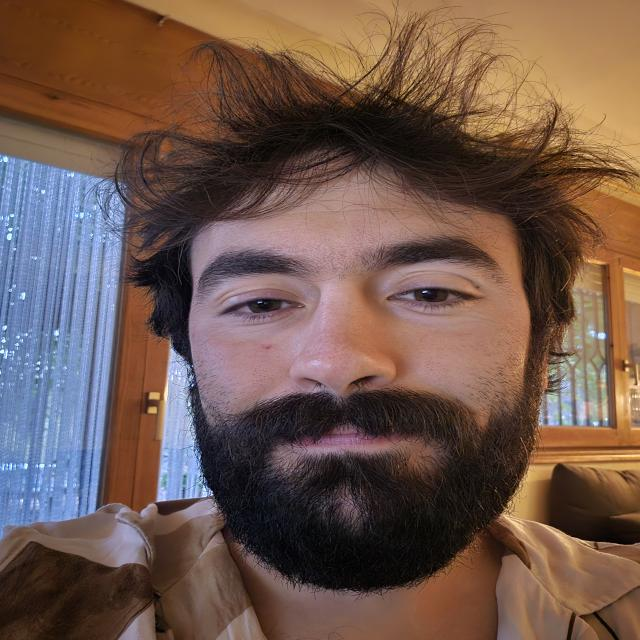consolador: (196, 171, 535, 586)
